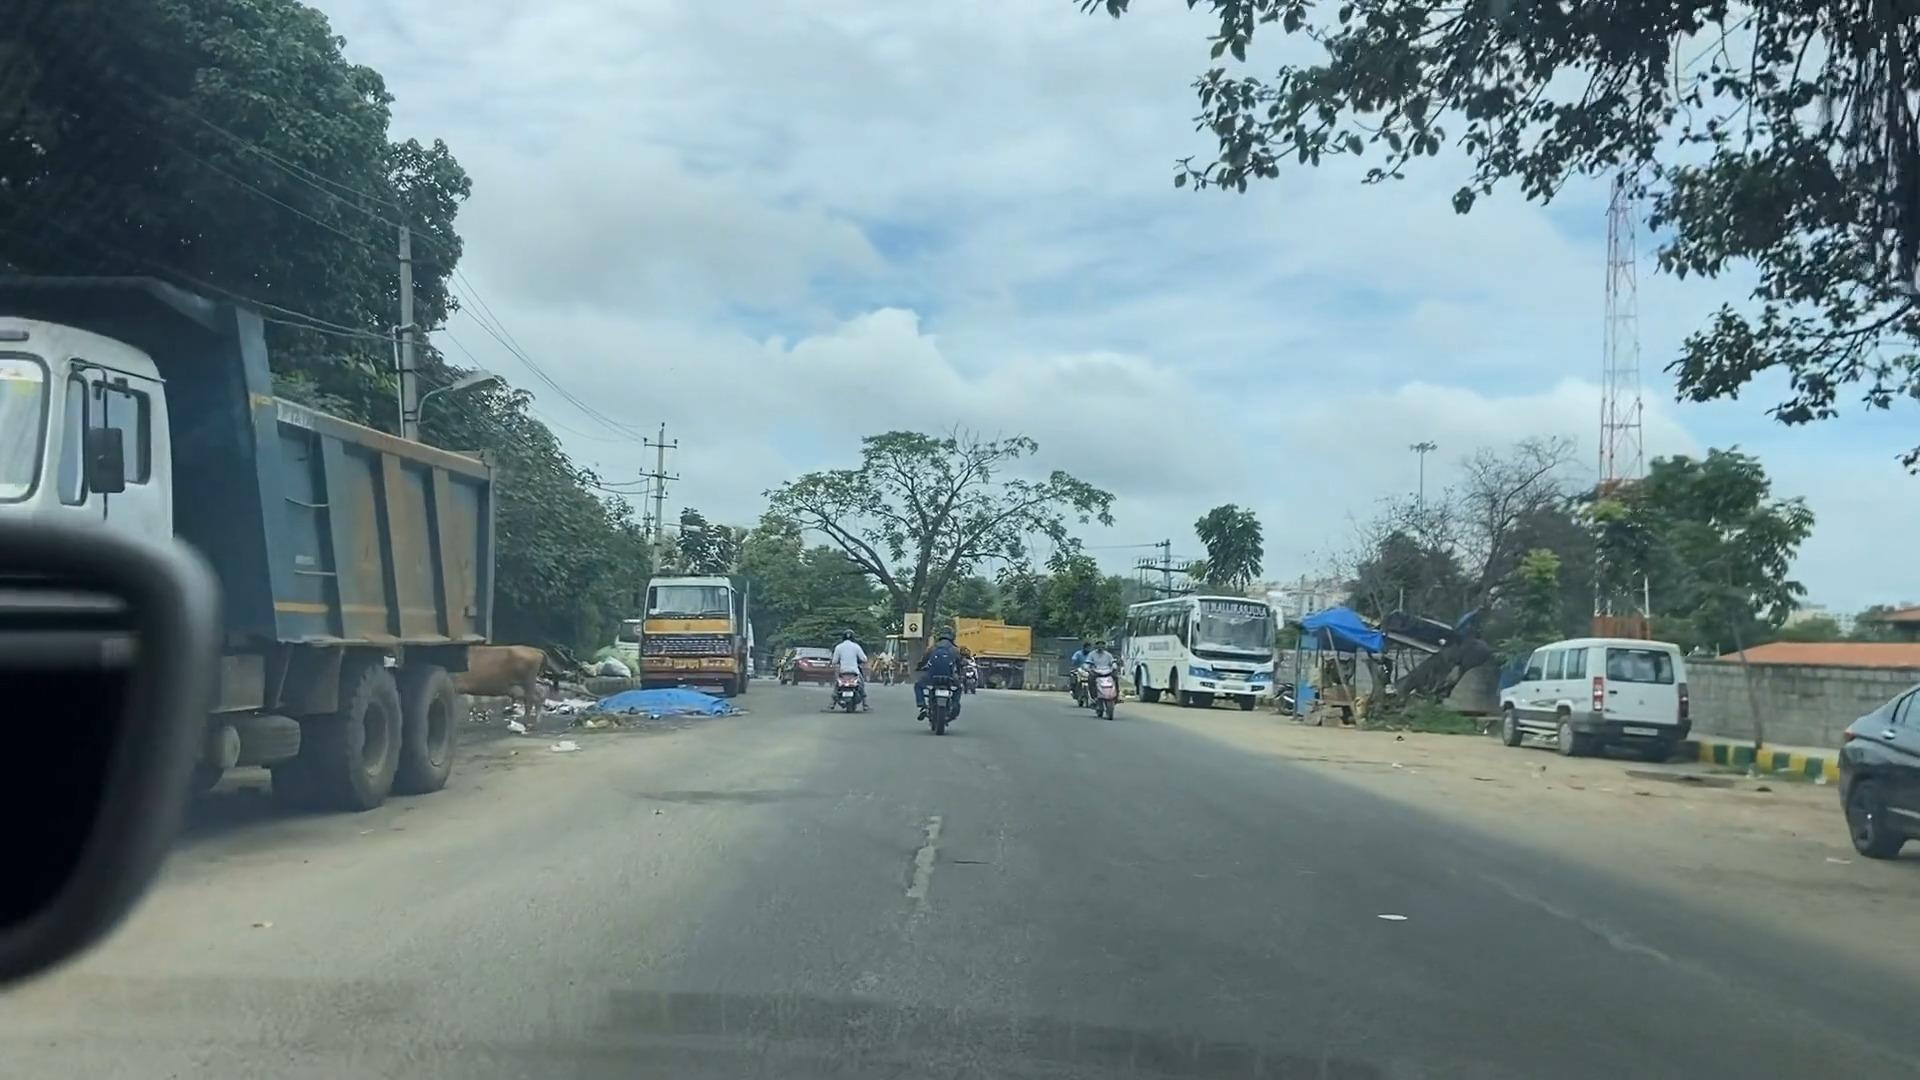HMV: (0, 313, 554, 843), (1087, 550, 1291, 723), (629, 518, 752, 700), (932, 591, 1039, 707)
LMV: (1481, 589, 1714, 787), (884, 549, 1023, 799), (1795, 620, 1920, 889), (811, 601, 885, 736), (1072, 615, 1117, 727)
RoadDamages: (893, 789, 961, 942)
